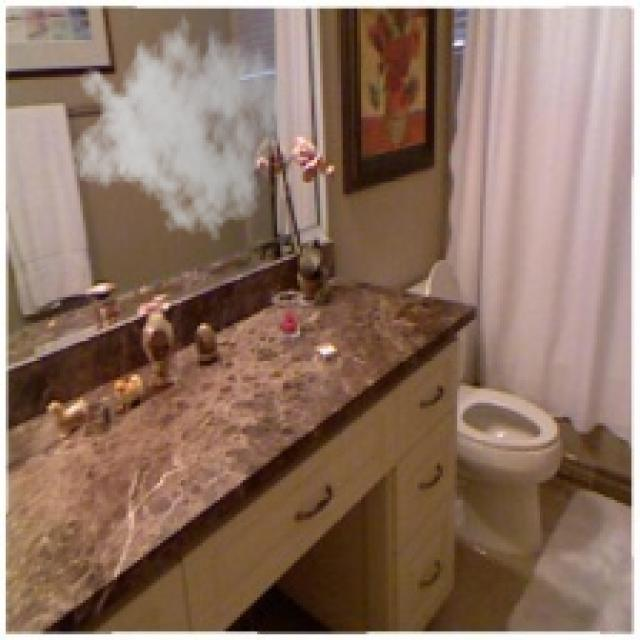smoke: (71, 0, 292, 243)
